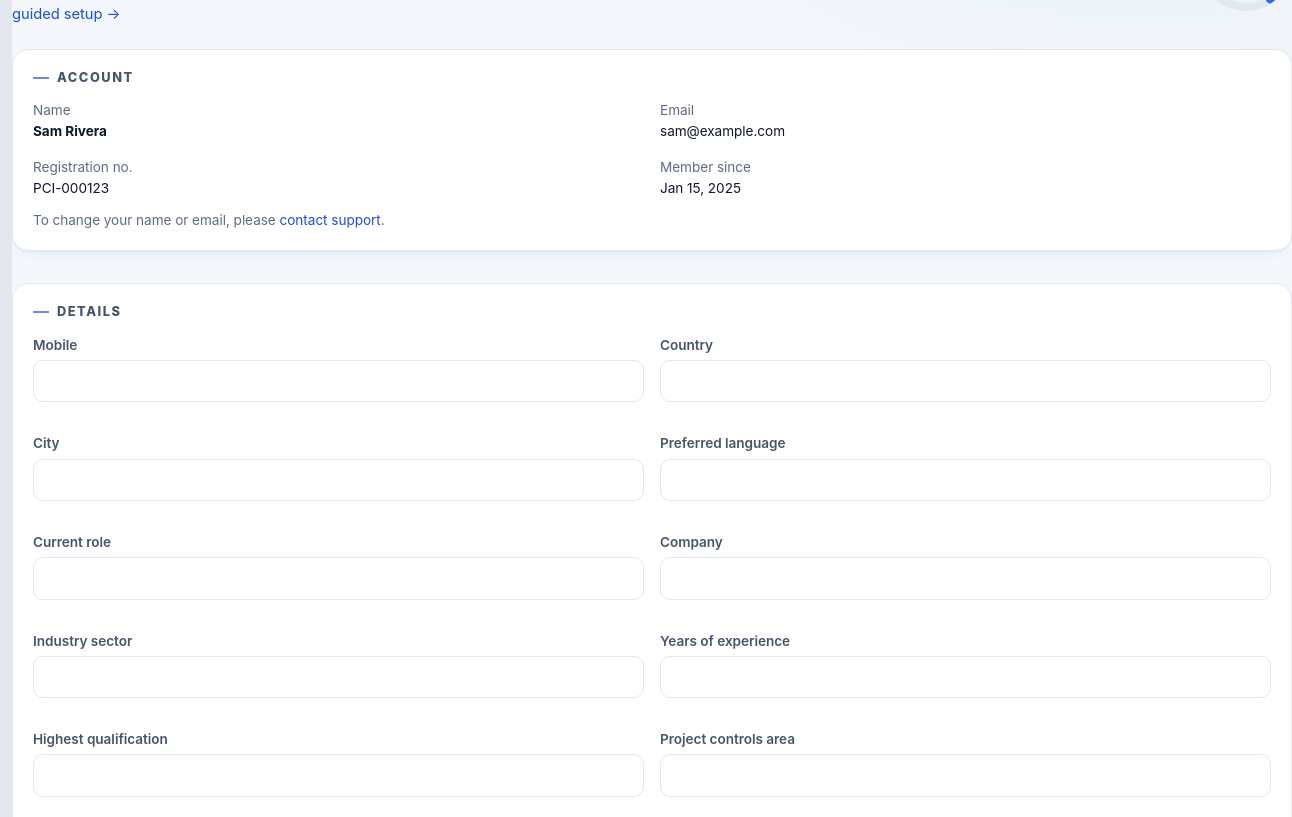
it: Profile › profile details save › keeps the save button disabled until a field is edited, then PATCHes only the change
Type "+15551234" into the field labelled "Mobile".
click(338, 381); type("+15551234")  # box [33,360,644,402]
(page scrolled)
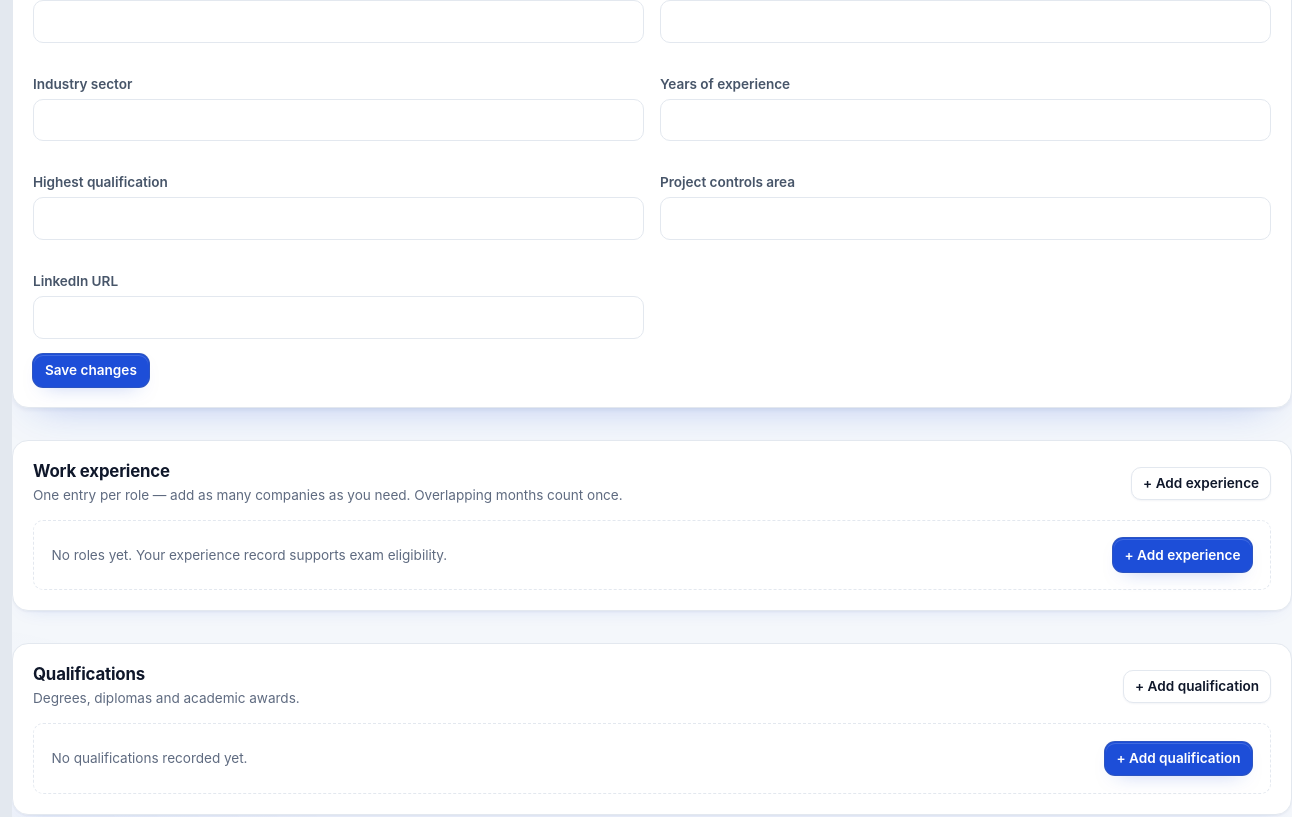
Expected: the button "Save changes" is enabled
Click the button "Save changes".
click(91, 370)  # box [33,354,149,387]
(page scrolled)
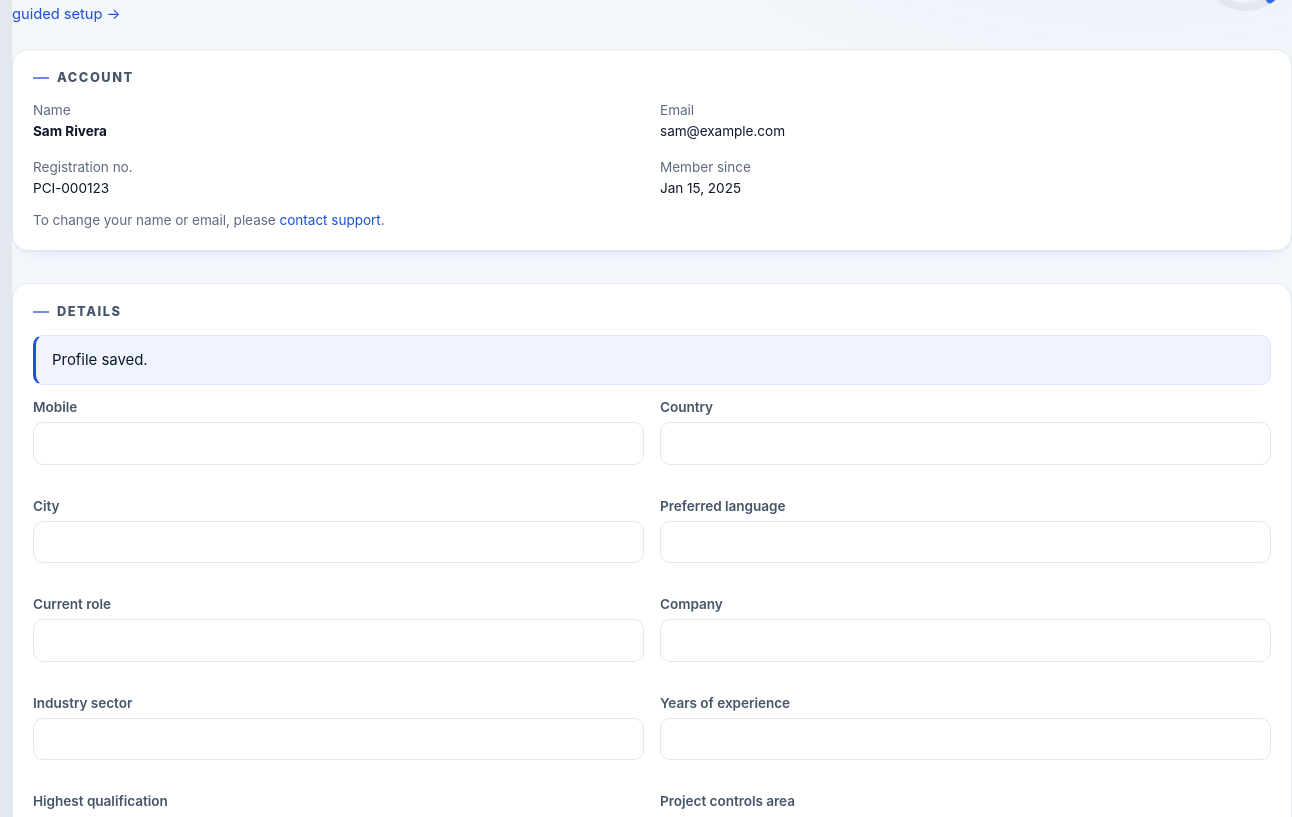
Expected: the text "Profile saved." is shown, [33,335,1271,385]
